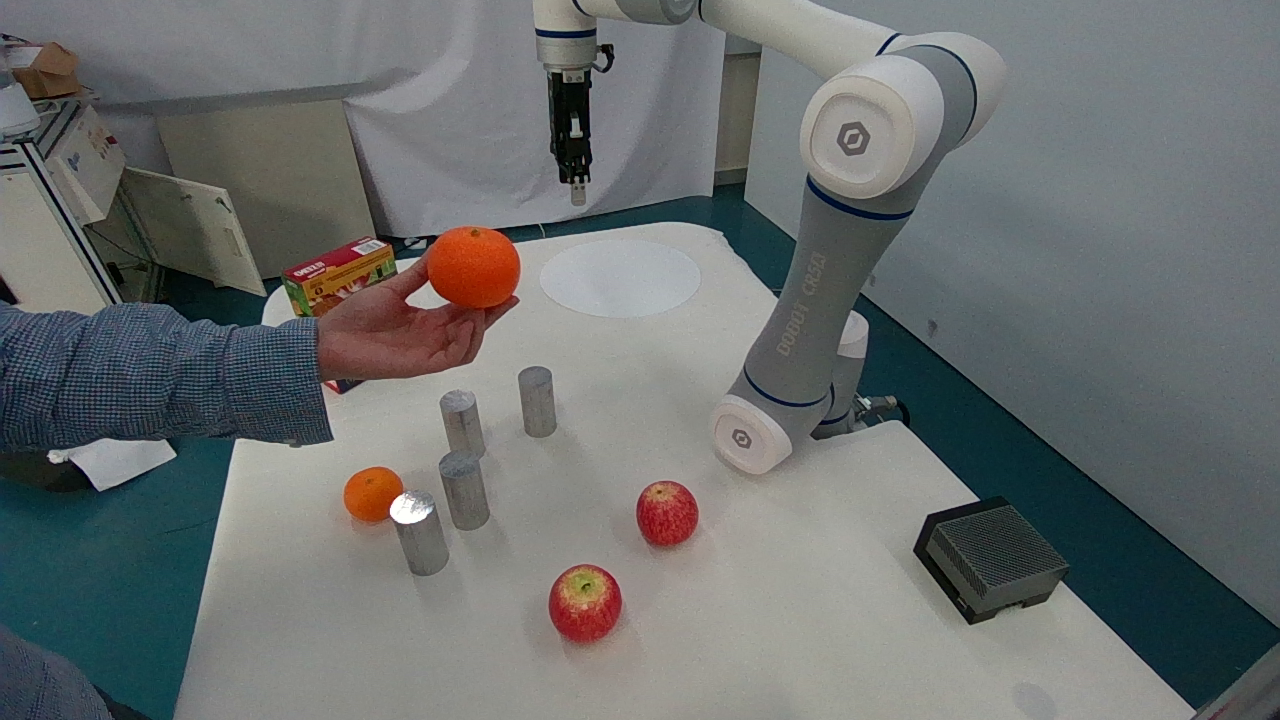apple: (547, 548, 630, 658), (626, 475, 709, 548)
metal rod: (416, 436, 510, 537), (381, 484, 460, 592), (428, 369, 497, 462), (510, 357, 575, 439)
orange: (409, 207, 535, 318), (332, 451, 405, 520)
